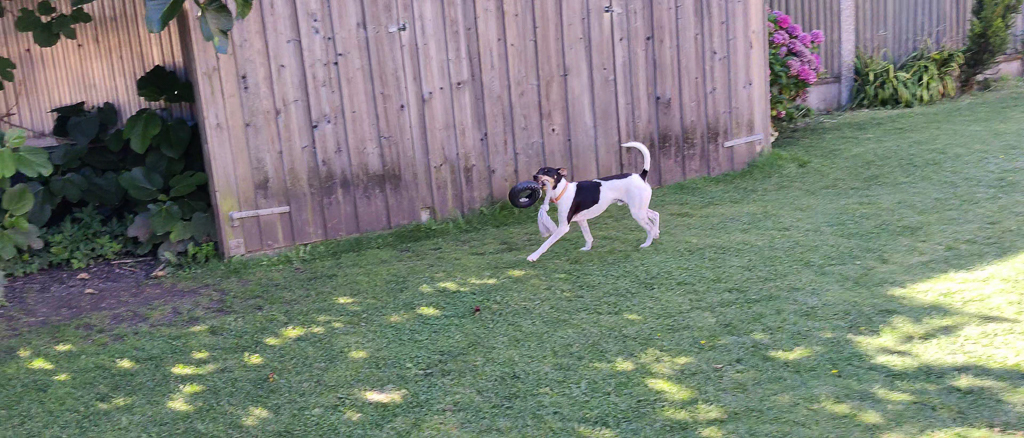Dog: (509, 134, 669, 268)
